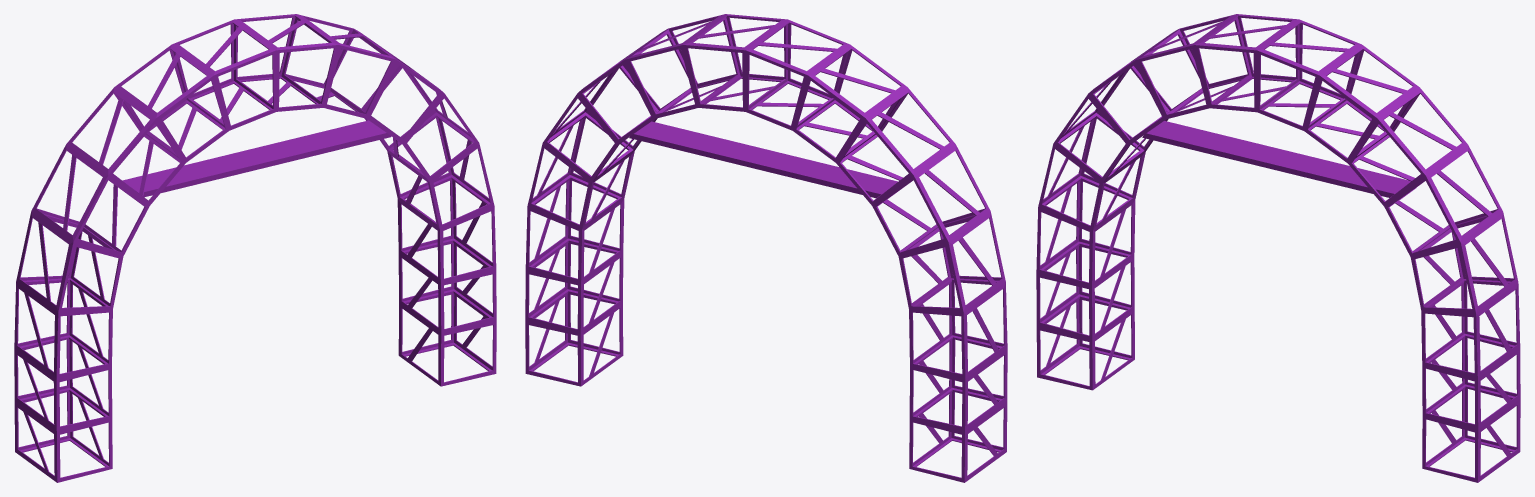
The model's file is Portal 1.fbx.
3 renders of one model, left to right at view 1: azimuth 30°, elevation 25°; view 2: azimuth 150°, elevation 25°; view 3: azimuth 330°, elevation 25°, orthographic.
Visible parts, largest first — view 1: PortalResized; view 2: PortalResized; view 3: PortalResized.
Part boxes in pixels (x1,y1,x2,y2): PortalResized: [14, 14, 496, 482]; PortalResized: [525, 14, 1007, 482]; PortalResized: [1036, 14, 1520, 482].
Size of the model in its own units: 303 by 250 by 50.43.
